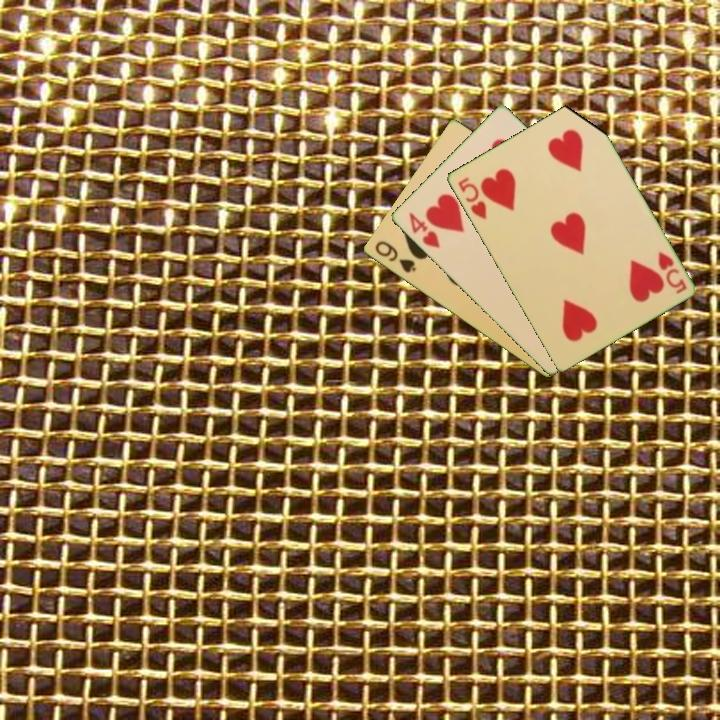4h: (404, 209, 442, 251)
5h: (454, 173, 489, 223), (654, 247, 689, 297)
9s: (371, 237, 418, 276)
